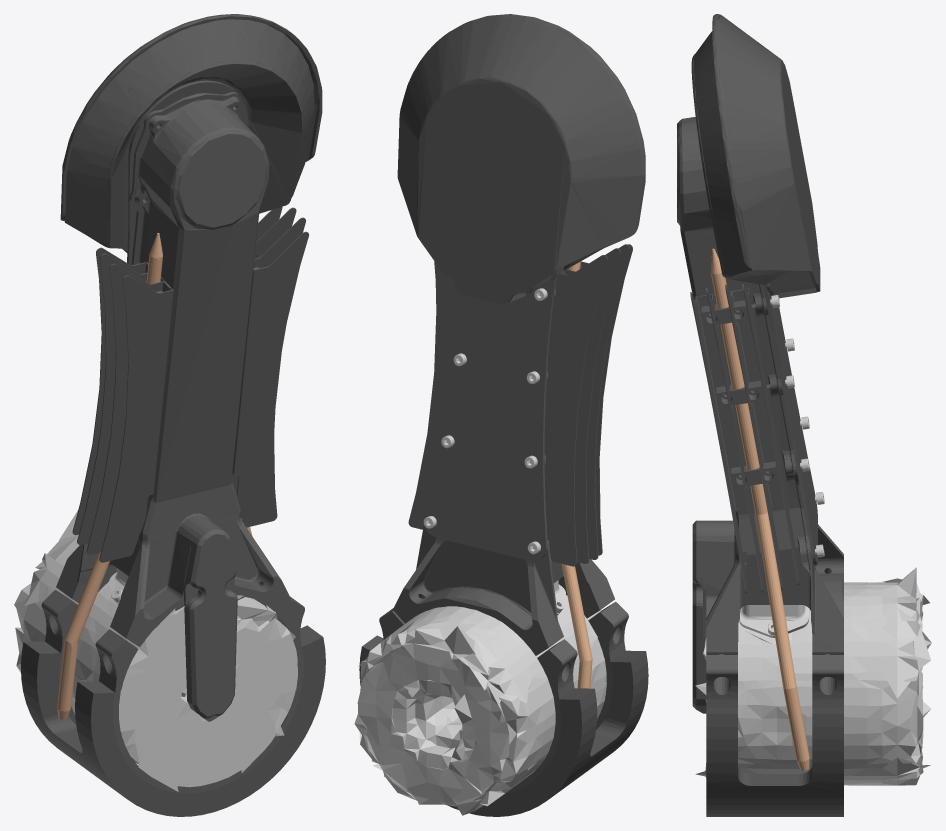
The model's file is anymal_thigh.dae.
3 renders of one model, left to right at view 1: azimuth 30°, elevation 25°; view 2: azimuth 150°, elevation 25°; view 3: azimuth 270°, elevation 25°, orthographic. The views are drawn at different scales.
Parts seen in each view (by area): view 1: _42196_00-ASM_ANYmal_thigh_left_EDI_003, _42196_00-ASM_ANYmal_thigh_left_EDI_004, _42196_00-ASM_ANYmal_thigh_left_EDI_002, _42196_00-ASM_ANYmal_thigh_left_EDI_009, _42196_00-ASM_ANYmal_thigh_left_EDI_006, _42196_00-ASM_ANYmal_thigh_left_EDI_007, _42196_00-ASM_ANYmal_thigh_left_EDI_005, _42196_00-ASM_ANYmal_thigh_left_EDI_001; view 2: _42196_00-ASM_ANYmal_thigh_left_EDI_002, _42196_00-ASM_ANYmal_thigh_left_EDI_009, _42196_00-ASM_ANYmal_thigh_left_EDI_001, _42196_00-ASM_ANYmal_thigh_left_EDI_004, _42196_00-ASM_ANYmal_thigh_left_EDI_003, _42196_00-ASM_ANYmal_thigh_left_EDI_006, _42196_00-ASM_ANYmal_thigh_left_EDI_007, _42196_00-ASM_ANYmal_thigh_left_EDI_005, _42196_00-ASM_ANYmal_thigh_left_EDI_012; view 3: _42196_00-ASM_ANYmal_thigh_left_EDI_009, _42196_00-ASM_ANYmal_thigh_left_EDI_002, _42196_00-ASM_ANYmal_thigh_left_EDI_003, _42196_00-ASM_ANYmal_thigh_left_EDI_004, _42196_00-ASM_ANYmal_thigh_left_EDI_006, _42196_00-ASM_ANYmal_thigh_left_EDI_005, _42196_00-ASM_ANYmal_thigh_left_EDI_007, _42196_00-ASM_ANYmal_thigh_left_EDI_001, _42196_00-ASM_ANYmal_thigh_left_EDI_008, _42196_00-ASM_ANYmal_thigh_left_EDI_012.
Part boxes in pixels (x1,y1,x2,y2): _42196_00-ASM_ANYmal_thigh_left_EDI_003: [56, 92, 290, 721]; _42196_00-ASM_ANYmal_thigh_left_EDI_004: [72, 207, 308, 562]; _42196_00-ASM_ANYmal_thigh_left_EDI_002: [60, 14, 322, 252]; _42196_00-ASM_ANYmal_thigh_left_EDI_009: [14, 510, 297, 791]; _42196_00-ASM_ANYmal_thigh_left_EDI_006: [21, 625, 325, 816]; _42196_00-ASM_ANYmal_thigh_left_EDI_007: [41, 590, 304, 793]; _42196_00-ASM_ANYmal_thigh_left_EDI_005: [57, 233, 252, 719]; _42196_00-ASM_ANYmal_thigh_left_EDI_001: [127, 80, 247, 264]; _42196_00-ASM_ANYmal_thigh_left_EDI_002: [397, 14, 645, 304]; _42196_00-ASM_ANYmal_thigh_left_EDI_009: [354, 595, 606, 815]; _42196_00-ASM_ANYmal_thigh_left_EDI_001: [423, 276, 556, 560]; _42196_00-ASM_ANYmal_thigh_left_EDI_004: [408, 244, 632, 566]; _42196_00-ASM_ANYmal_thigh_left_EDI_003: [393, 289, 614, 655]; _42196_00-ASM_ANYmal_thigh_left_EDI_006: [359, 635, 648, 816]; _42196_00-ASM_ANYmal_thigh_left_EDI_007: [379, 601, 628, 792]; _42196_00-ASM_ANYmal_thigh_left_EDI_005: [561, 261, 592, 688]; _42196_00-ASM_ANYmal_thigh_left_EDI_012: [423, 288, 547, 554]; _42196_00-ASM_ANYmal_thigh_left_EDI_009: [695, 567, 931, 785]; _42196_00-ASM_ANYmal_thigh_left_EDI_002: [691, 14, 820, 298]; _42196_00-ASM_ANYmal_thigh_left_EDI_003: [677, 117, 843, 713]; _42196_00-ASM_ANYmal_thigh_left_EDI_004: [690, 284, 799, 593]; _42196_00-ASM_ANYmal_thigh_left_EDI_006: [706, 708, 843, 816]; _42196_00-ASM_ANYmal_thigh_left_EDI_005: [710, 248, 809, 770]; _42196_00-ASM_ANYmal_thigh_left_EDI_007: [706, 655, 843, 708]; _42196_00-ASM_ANYmal_thigh_left_EDI_001: [763, 285, 817, 565]; _42196_00-ASM_ANYmal_thigh_left_EDI_008: [739, 605, 808, 637]; _42196_00-ASM_ANYmal_thigh_left_EDI_012: [770, 295, 824, 557].
Size of the model in its own units: 0.13 by 0.113 by 0.3799.
